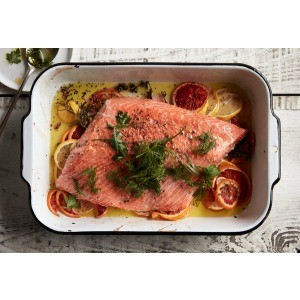salmon_brain food: (50, 99, 246, 219)
